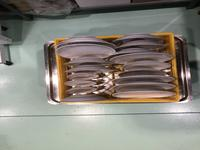Dish: (56, 44, 118, 59), (110, 53, 173, 64), (111, 81, 177, 91), (111, 74, 175, 84), (111, 89, 177, 97), (115, 40, 167, 50), (54, 41, 118, 49), (121, 61, 172, 71), (64, 57, 114, 66), (111, 33, 165, 41), (57, 94, 110, 102), (110, 48, 158, 56), (58, 36, 108, 43), (118, 69, 167, 76), (64, 66, 112, 73), (64, 79, 97, 86), (67, 73, 99, 80), (64, 87, 99, 93)
